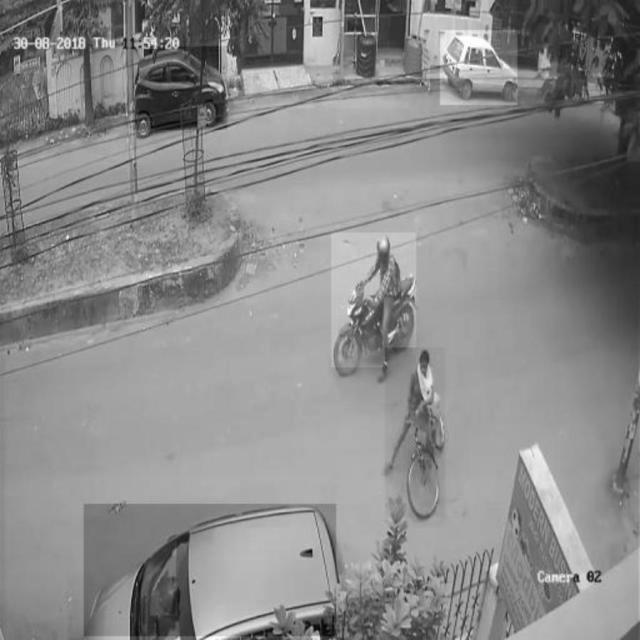vehicle: (84, 504, 336, 636), (332, 234, 416, 368), (385, 348, 446, 518), (133, 47, 227, 130), (440, 30, 518, 104)
